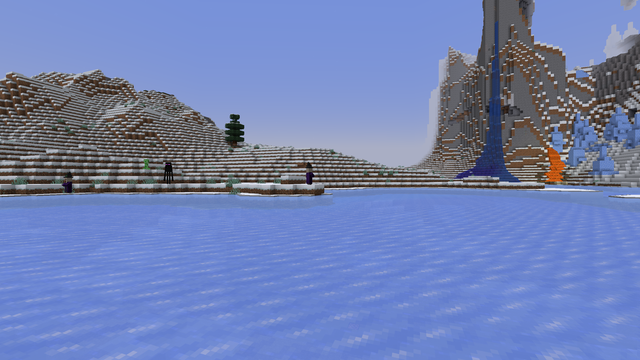creepers: (142, 158, 148, 167)
endermens: (164, 161, 171, 184)
sorcieres: (63, 177, 72, 194), (305, 167, 312, 185)
